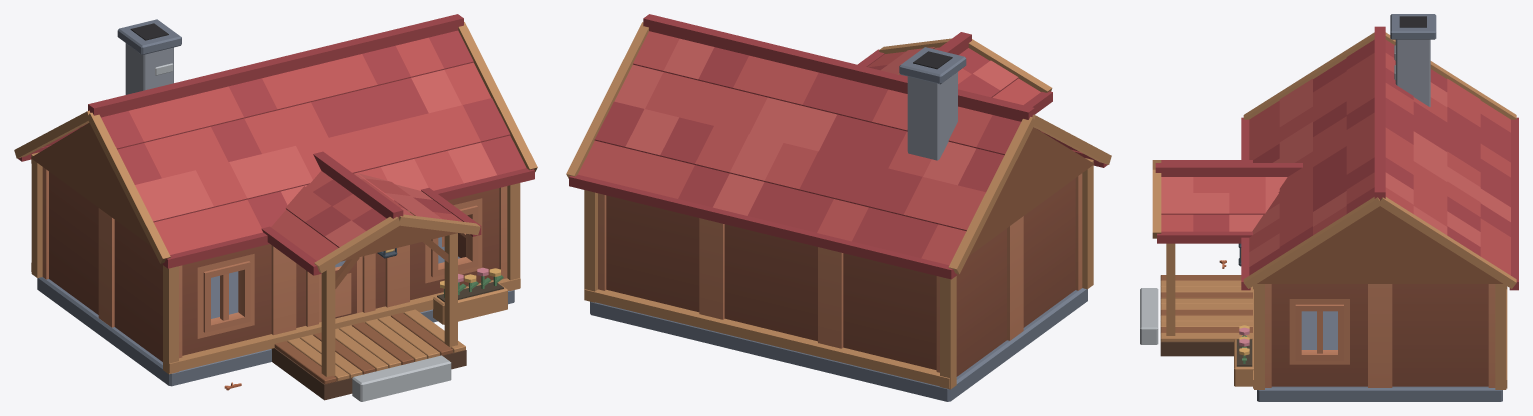
Rendered from farmhouse.glb.
3 renders of one model, left to right at view 1: azimuth 30°, elevation 25°; view 2: azimuth 150°, elevation 25°; view 3: azimuth 270°, elevation 25°, orthographic. The views are drawn at different scales.
Parts seen in each view (by area): view 1: farmhouse_建筑共用调色板, farmhouse_fantasy-town-kit 调色板; view 2: farmhouse_建筑共用调色板, farmhouse_fantasy-town-kit 调色板; view 3: farmhouse_建筑共用调色板, farmhouse_fantasy-town-kit 调色板.
Part boxes in pixels (x1,y1,x2,y2): farmhouse_建筑共用调色板: (14, 14, 537, 401); farmhouse_fantasy-town-kit 调色板: (42, 167, 507, 361); farmhouse_建筑共用调色板: (566, 14, 1111, 401); farmhouse_fantasy-town-kit 调色板: (598, 173, 1082, 376); farmhouse_建筑共用调色板: (1140, 14, 1518, 401); farmhouse_fantasy-town-kit 调色板: (1265, 284, 1495, 387).
Bounding box in the file's own units: 6.59 × 4.66 × 6.28.
Materials: 3 (3 with a texture image).
